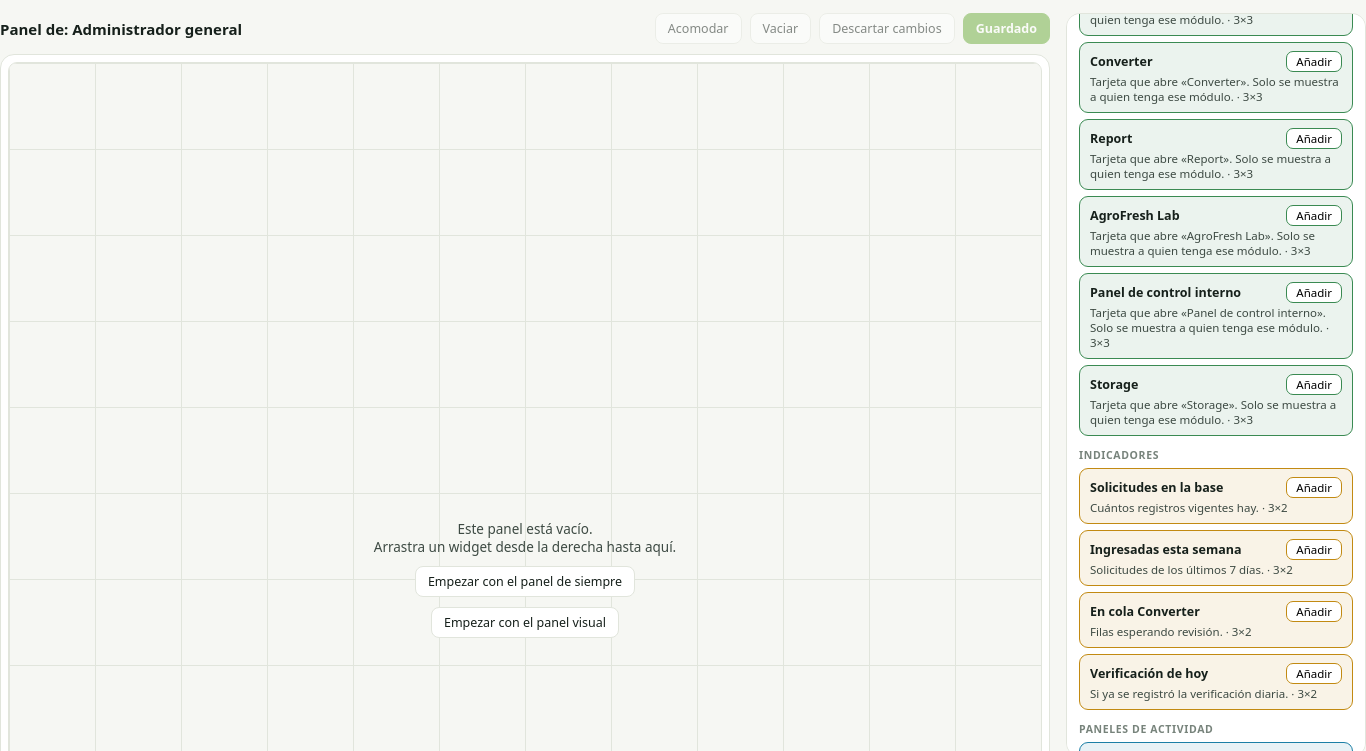
Scenario: editor del Panel de inicio › cambiar de objetivo con cambios sin guardar pregunta antes
(page scrolled)
Expected: the text "Este panel está vacío" is shown, x1=458 y1=520 x2=592 y2=538
Click the button with aria-label "Añadir Storage". click: [1314, 384]
box: x1=1286 y1=374 x2=1342 y2=395
(page scrolled)
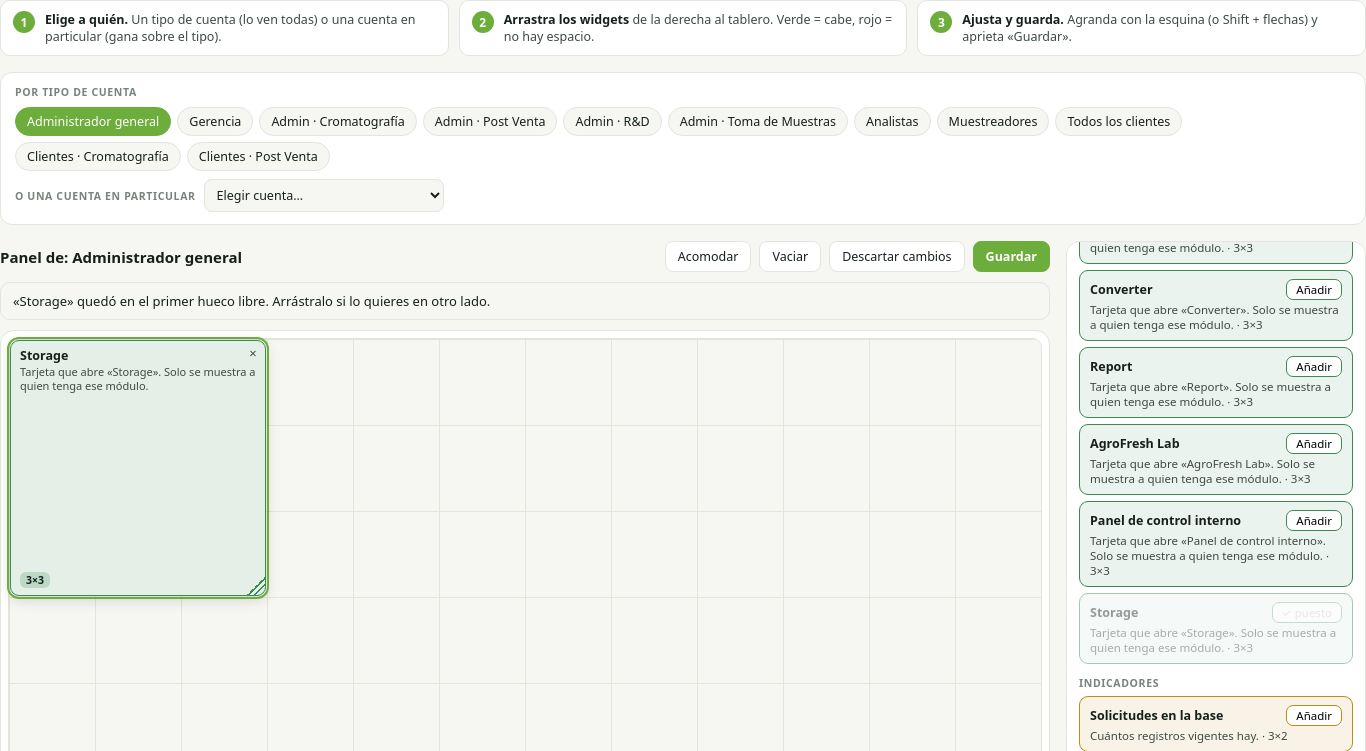
Click the button "Gerencia". click: [215, 122]
box: x1=177 y1=107 x2=253 y2=136
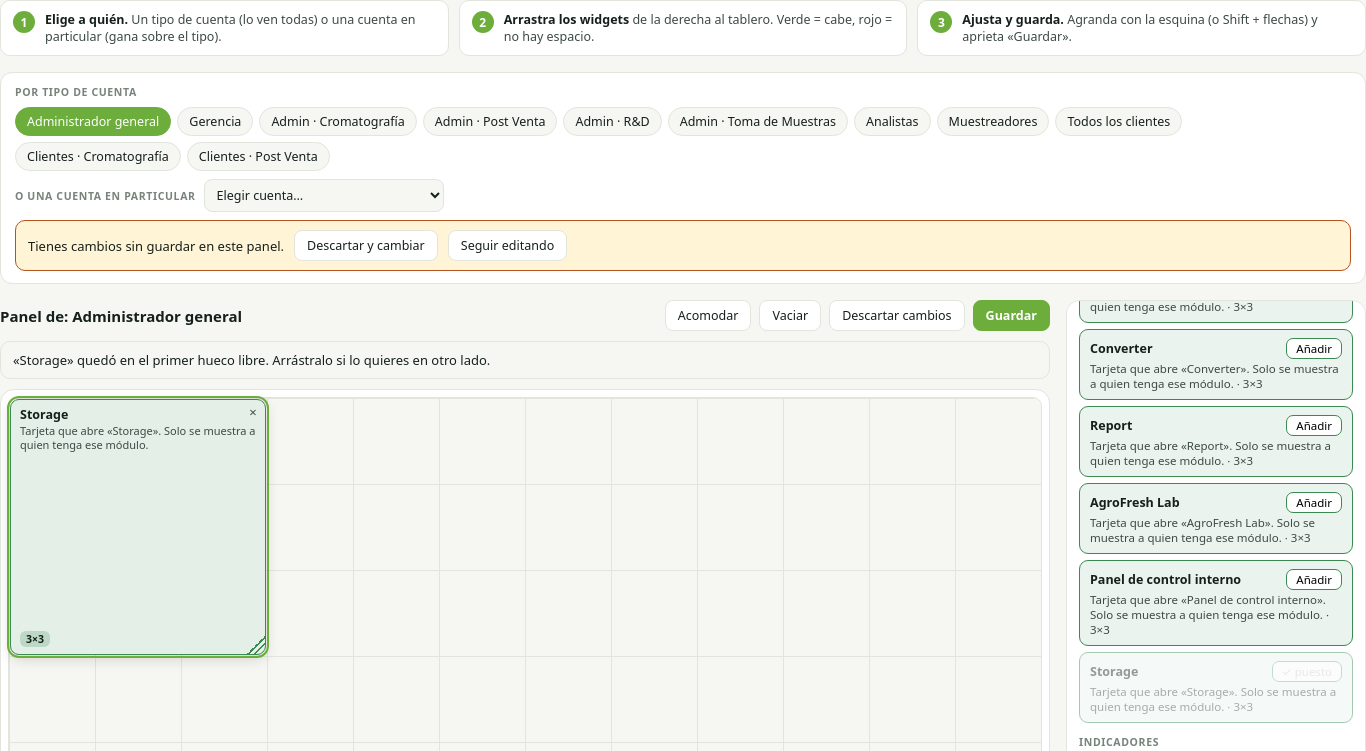
Now the message "Tienes cambios sin guardar en este panel. Descartar y cambiar Seguir editando" is shown, box x1=15 y1=220 x2=1351 y2=271
Click the button "Descartar y cambiar". click: [366, 246]
box: x1=294 y1=230 x2=438 y2=261
(page scrolled)
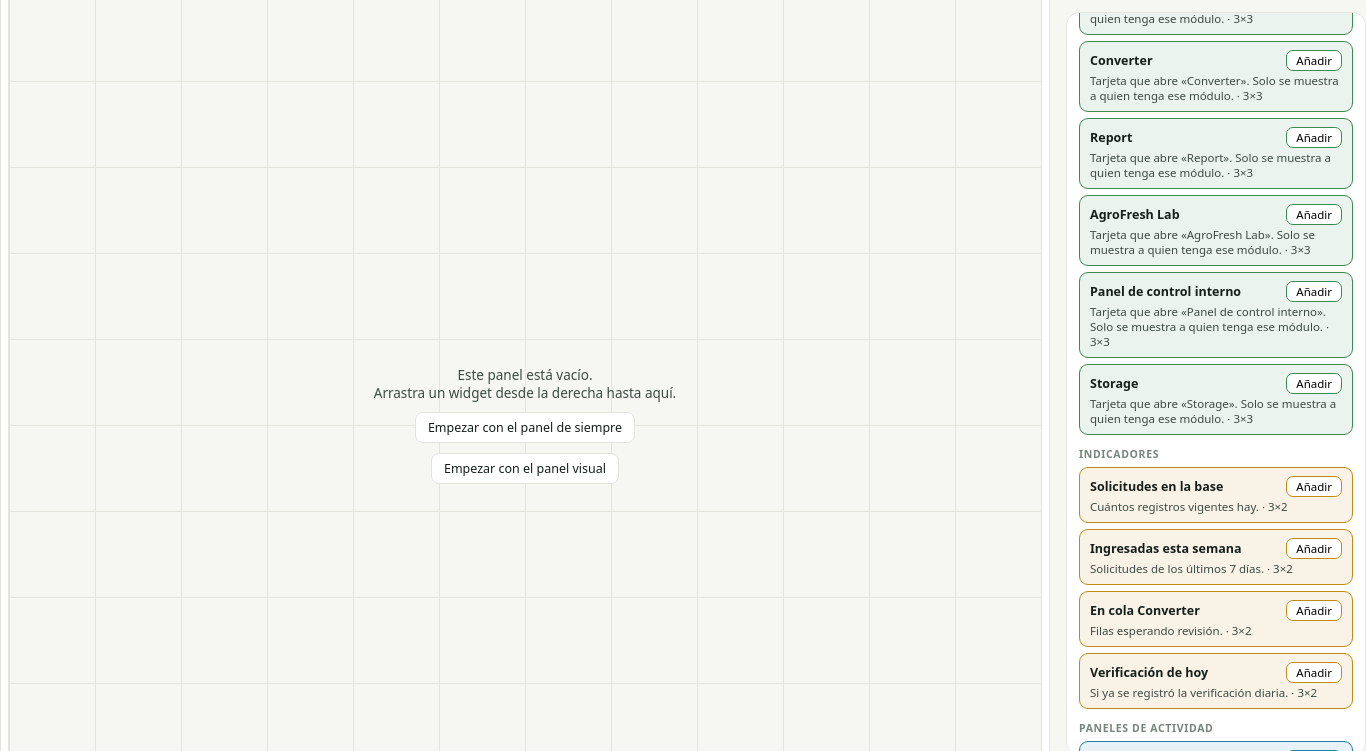
Now the text "Este panel está vacío" is shown, box x1=458 y1=366 x2=592 y2=384
